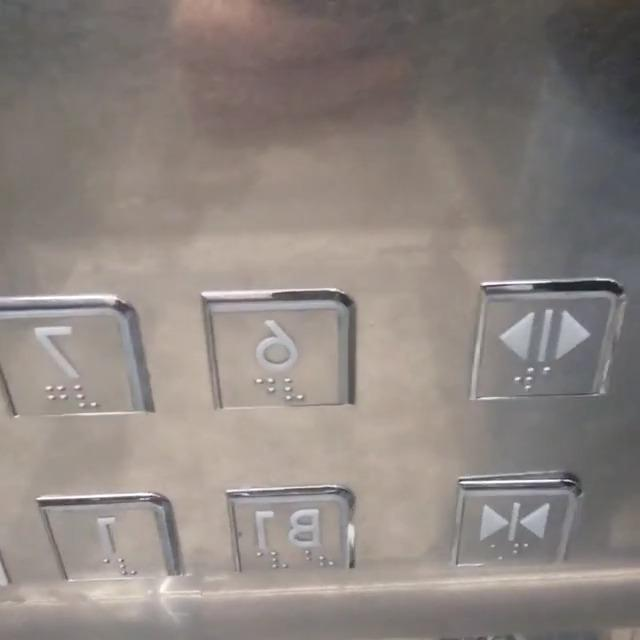button: (212, 289, 354, 415), (460, 279, 607, 397), (3, 298, 126, 426), (237, 476, 363, 594), (46, 487, 176, 590), (457, 477, 582, 581)
